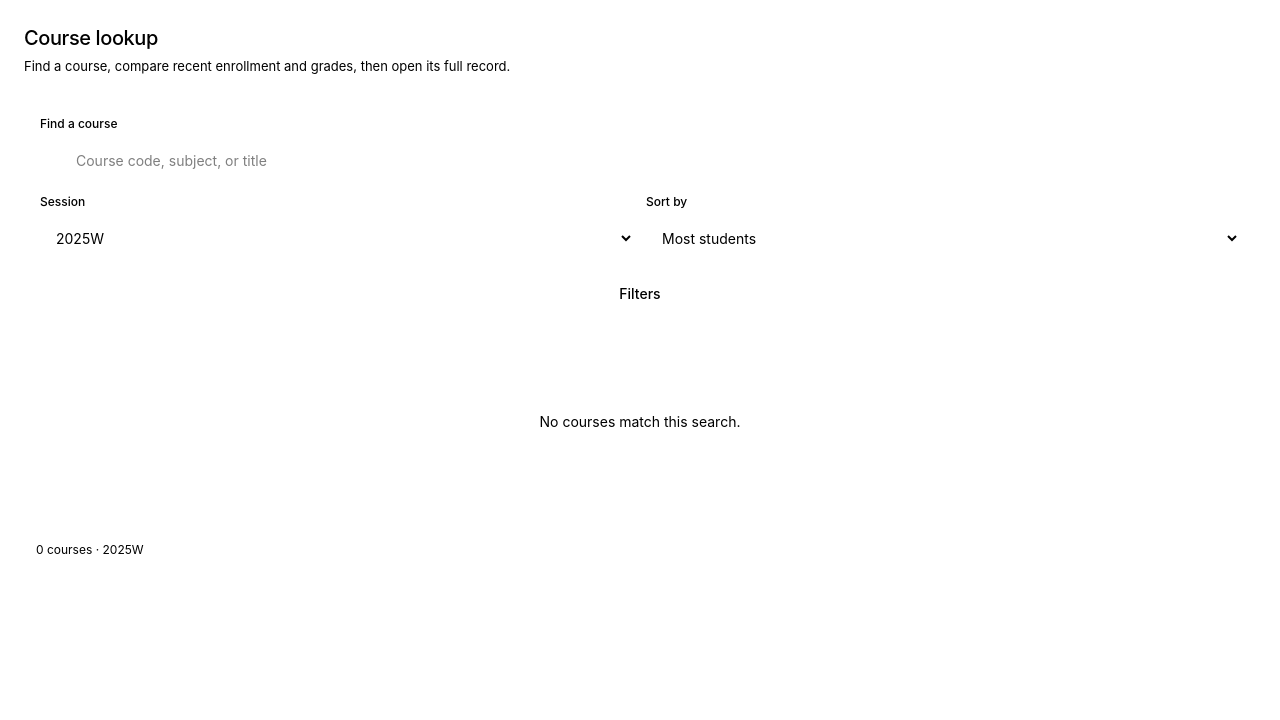
Test: course-lookup-pane — tools-mode list/detail split › ignores an older title fallback that later resolves
Check: the text "No courses match this search." is shown, box [540,412,740,432]
Type "data" into the field labelled "Find a course" at (640, 160), box [40,138,1240,182]
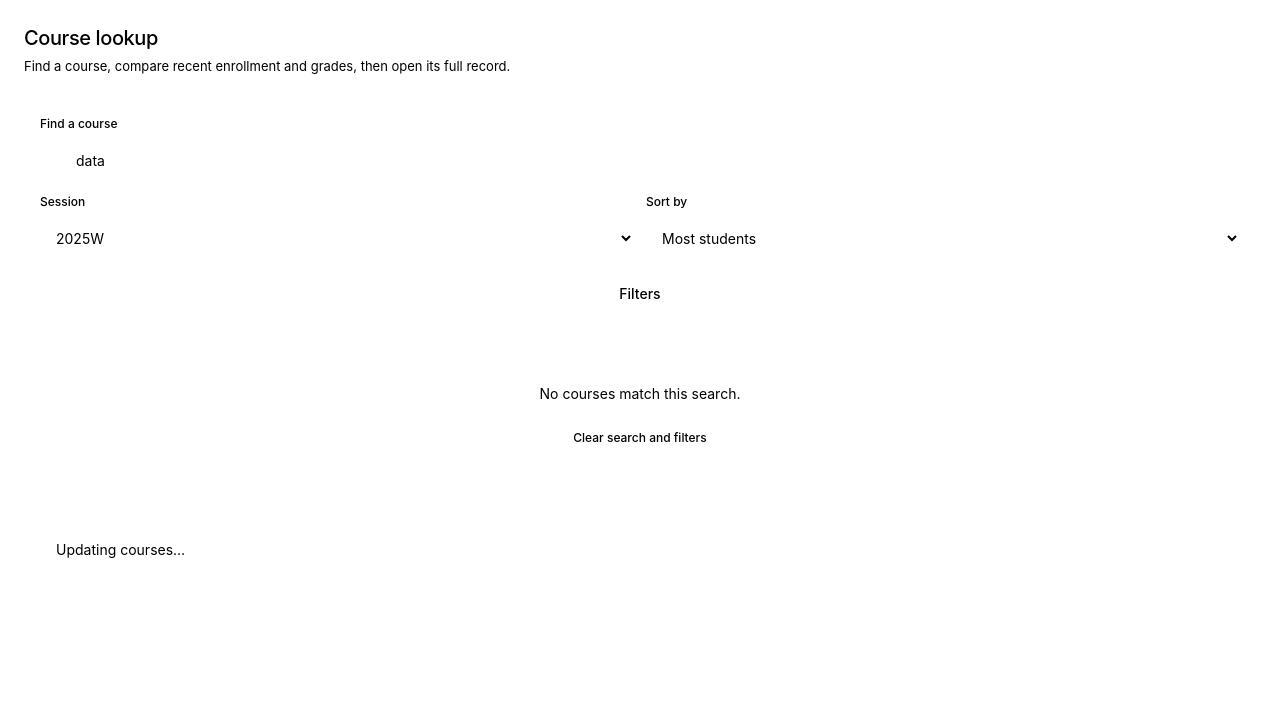
Replace the text in the field labelled "Find a course" with "CPSC 110" at (640, 160), box [40,138,1240,182]
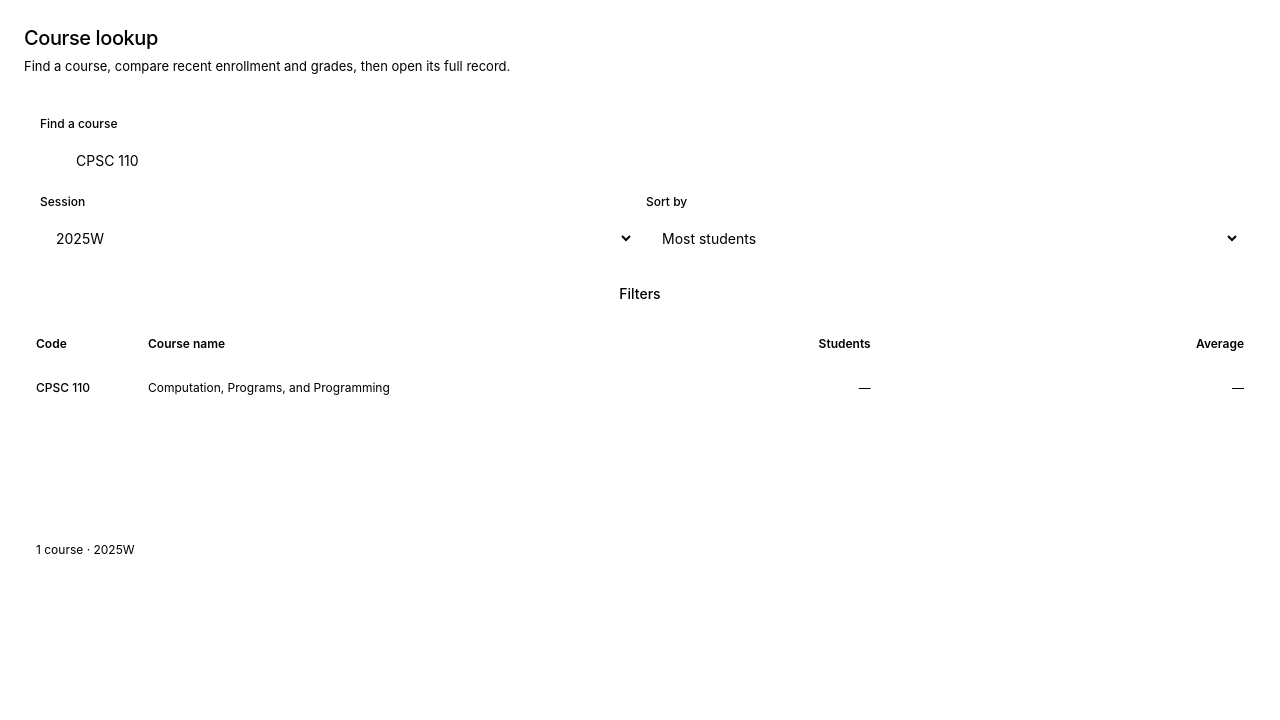
Check: the button "CPSC 110" is shown, box [30,366,96,410]
Check: the text "1 course · 2025W" is shown, box [36,542,135,558]
Check: the message "Updating courses…" is gone
